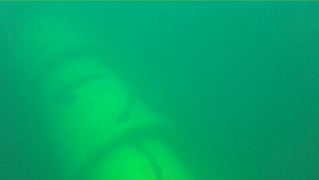1: (49, 72, 106, 107)
pipe: (1, 1, 196, 179)
